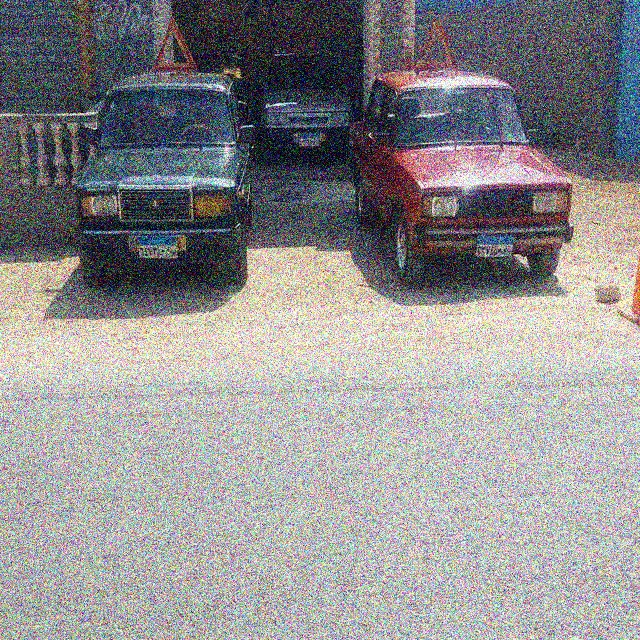License Plate: (475, 233, 516, 260), (137, 234, 177, 261)
